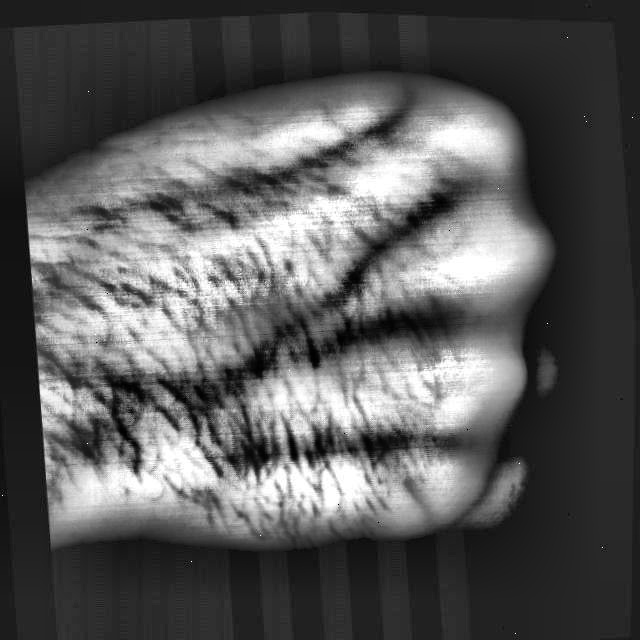Vein: (74, 313, 386, 430)
